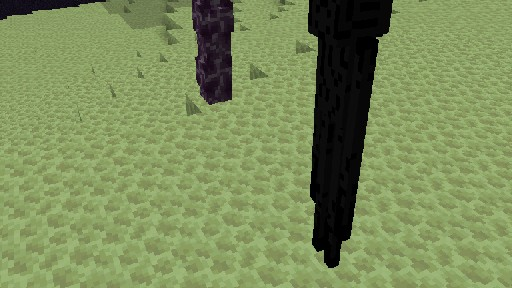enderman: (307, 0, 397, 273)
